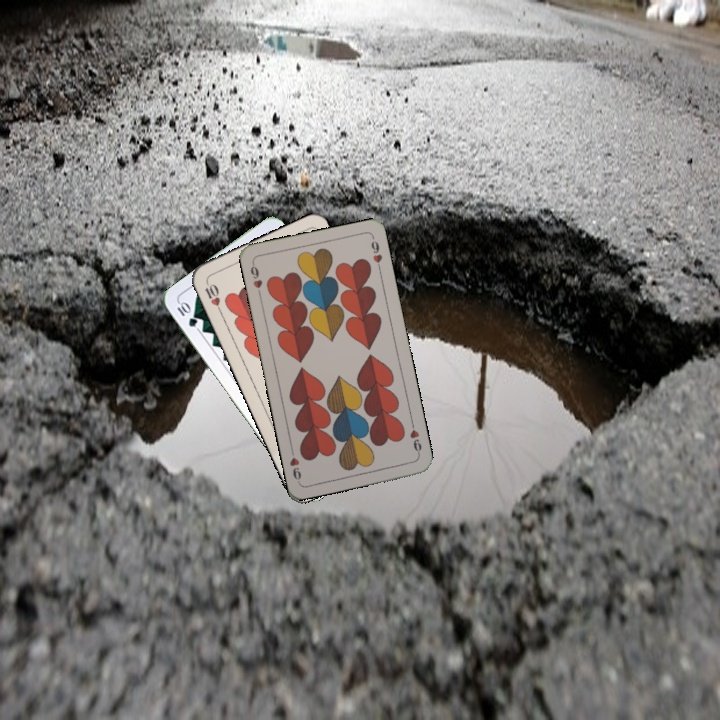G10: (173, 298, 200, 330)
H10: (201, 278, 225, 316)
H9: (246, 259, 265, 299), (406, 418, 424, 458)
